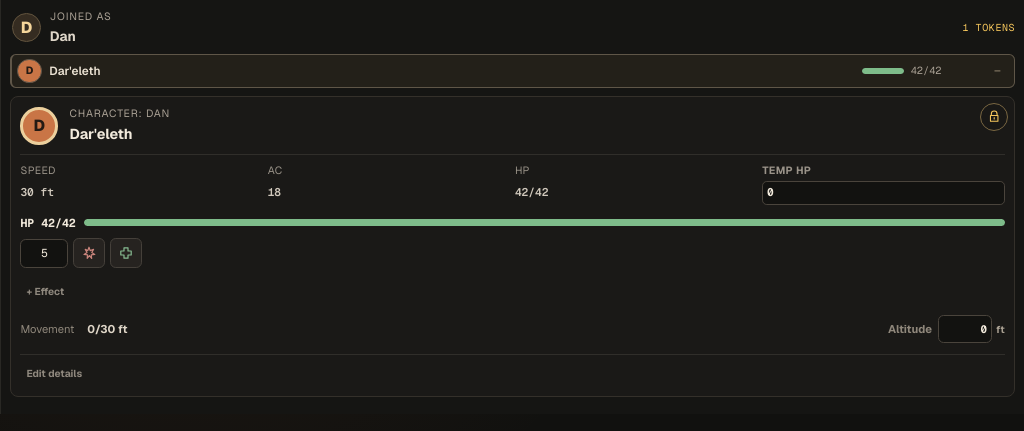
EncounterSidebar initiative disclosure › keeps a missing initiative editable only from the roster
Click the button named "Enter initiative for Dar'eleth": (998, 71) [984,60,1011,83]
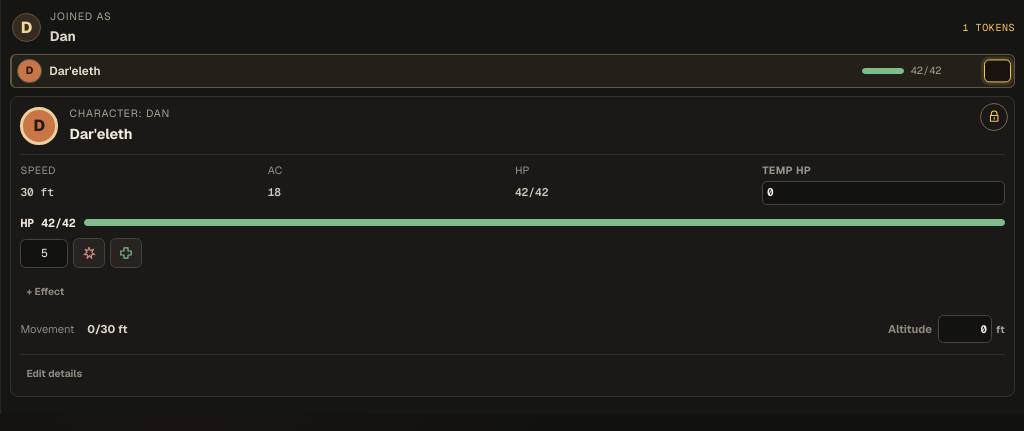
Result: the field named "Initiative for Dar'eleth" is shown at [984,60,1011,83]
